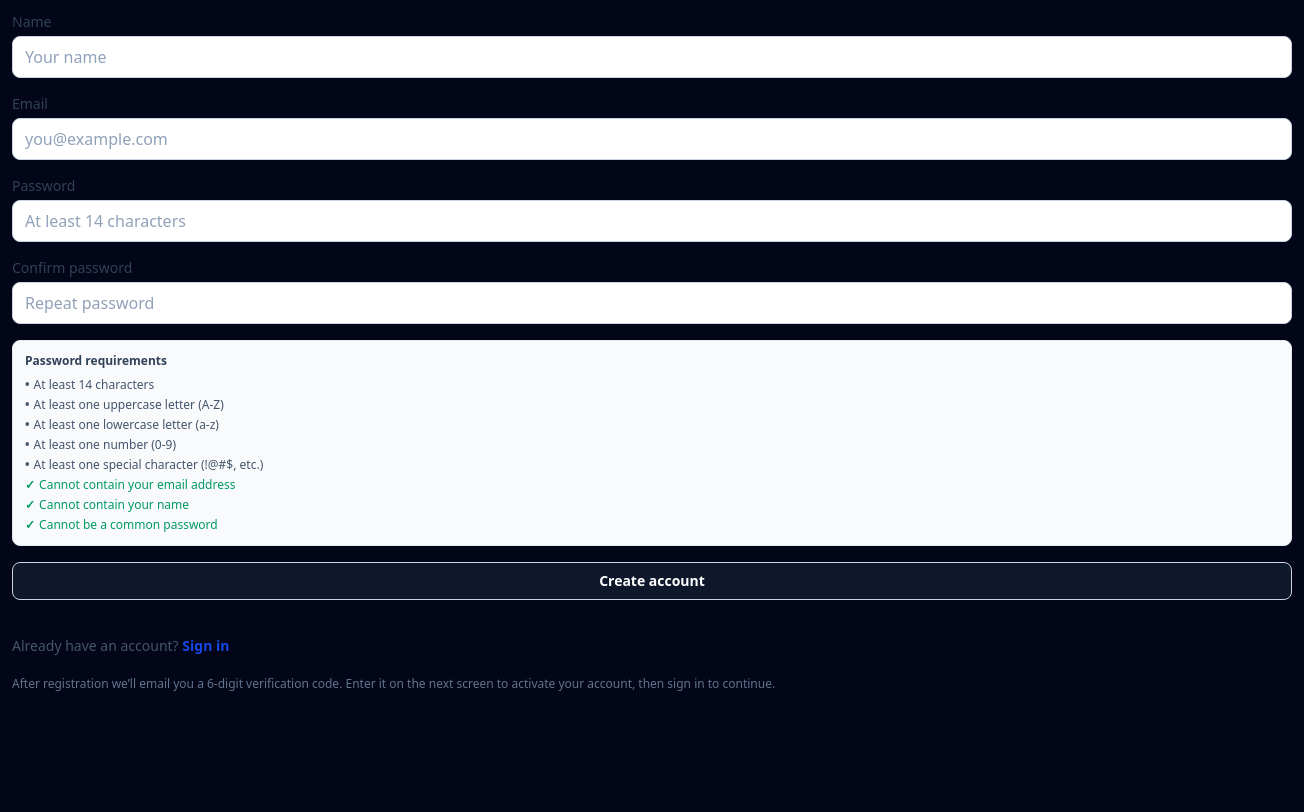
Scenario: RegisterPage › registers and navigates to verify page
Type "Matt" into the field with placeholder "Your name" at (652,57), box [12,36,1292,78]
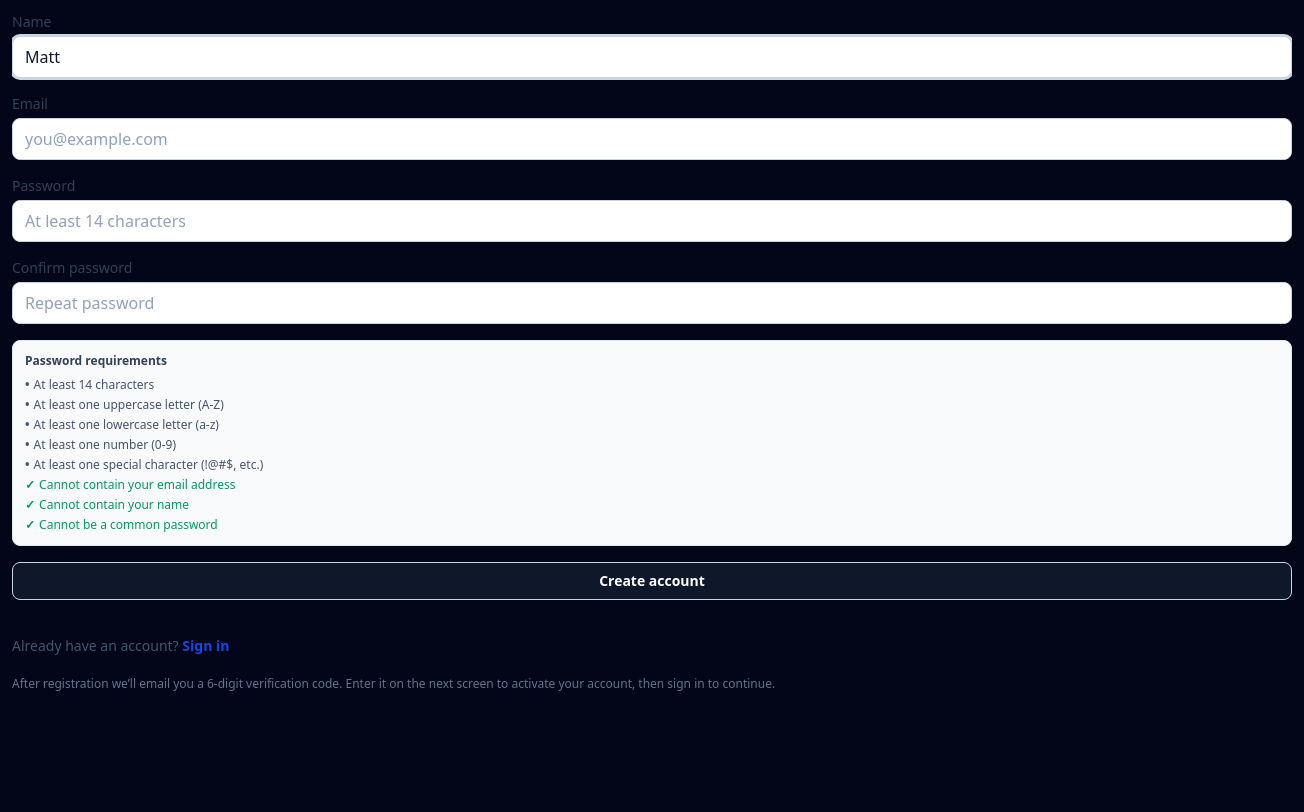
Type "matt@example.com" into the field with placeholder "you@example.com" at (652,139), box [12,118,1292,160]
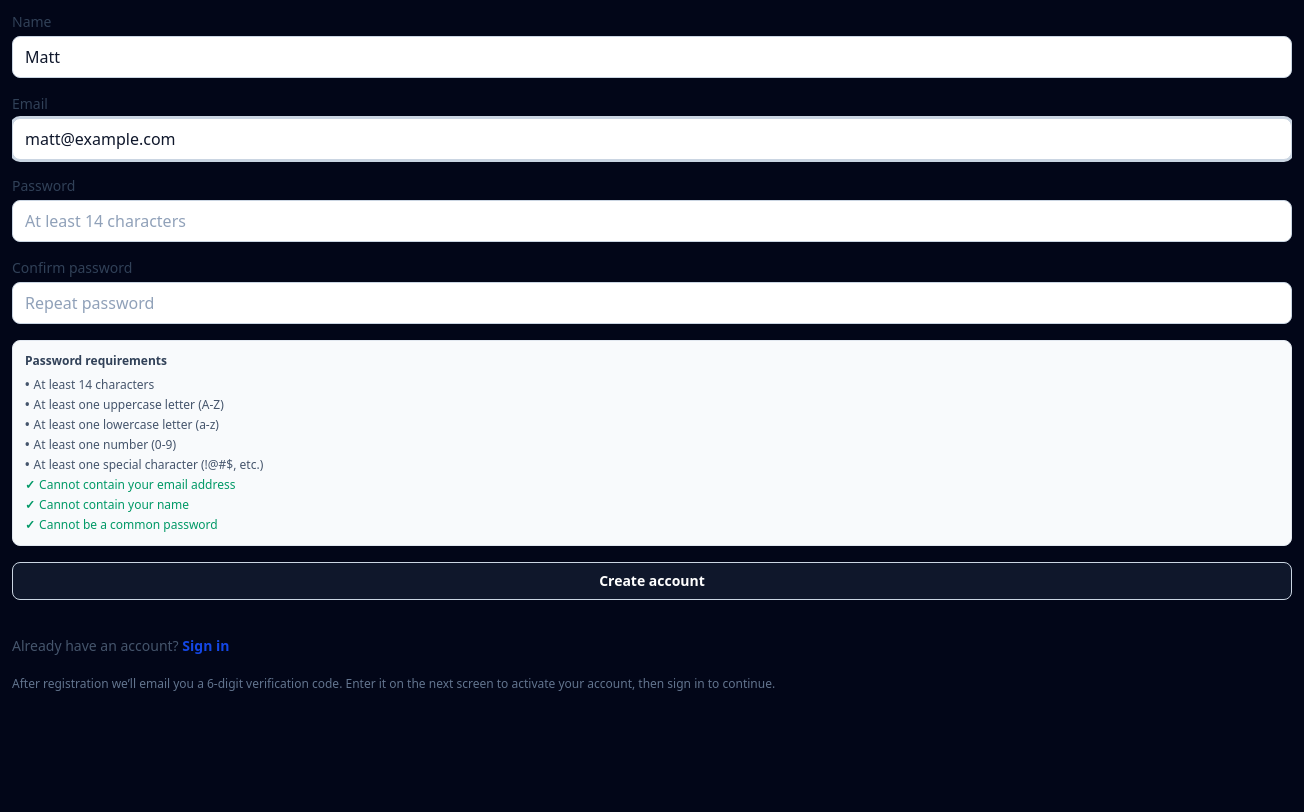
Type "Password_12345" into the password field with placeholder "At least 14 characters" at (652,221), box [12,200,1292,242]
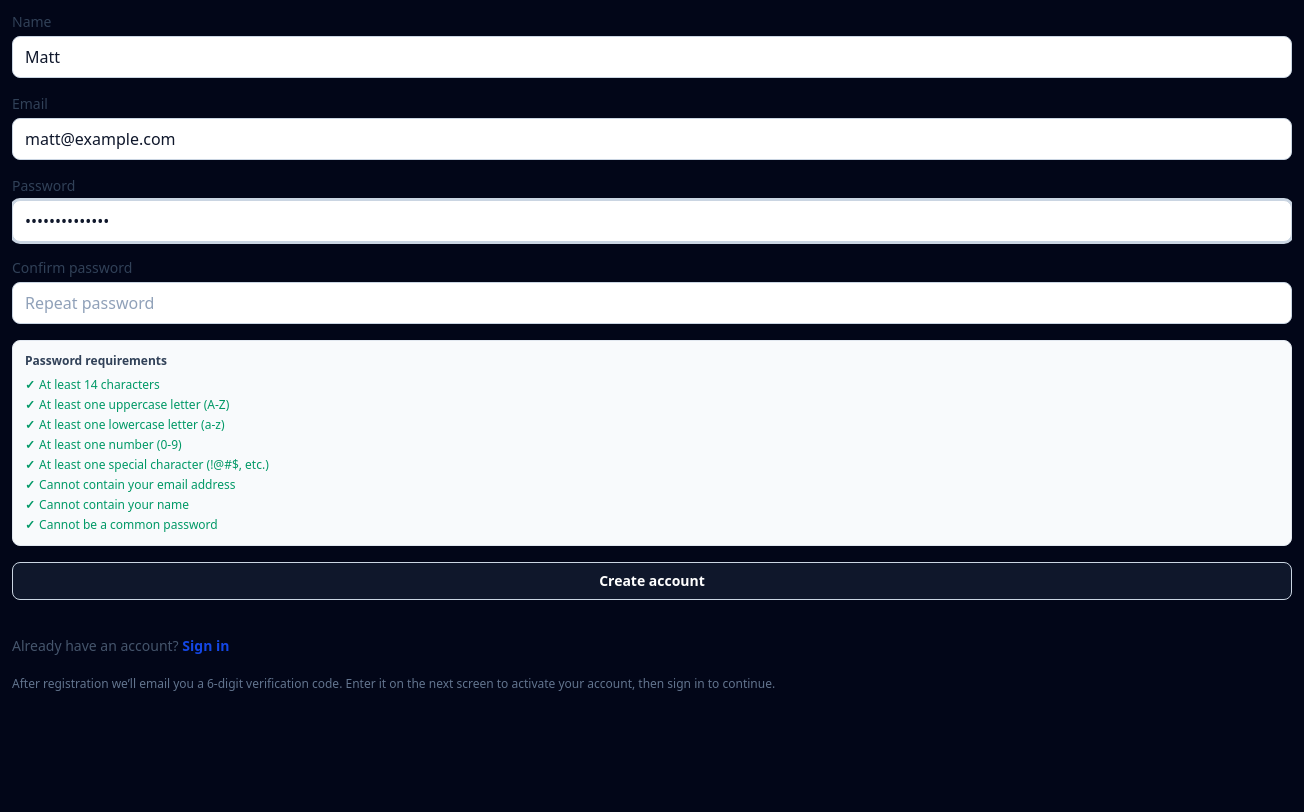
Type "Password_12345" into the password field with placeholder "Repeat password" at (652,303), box [12,282,1292,324]
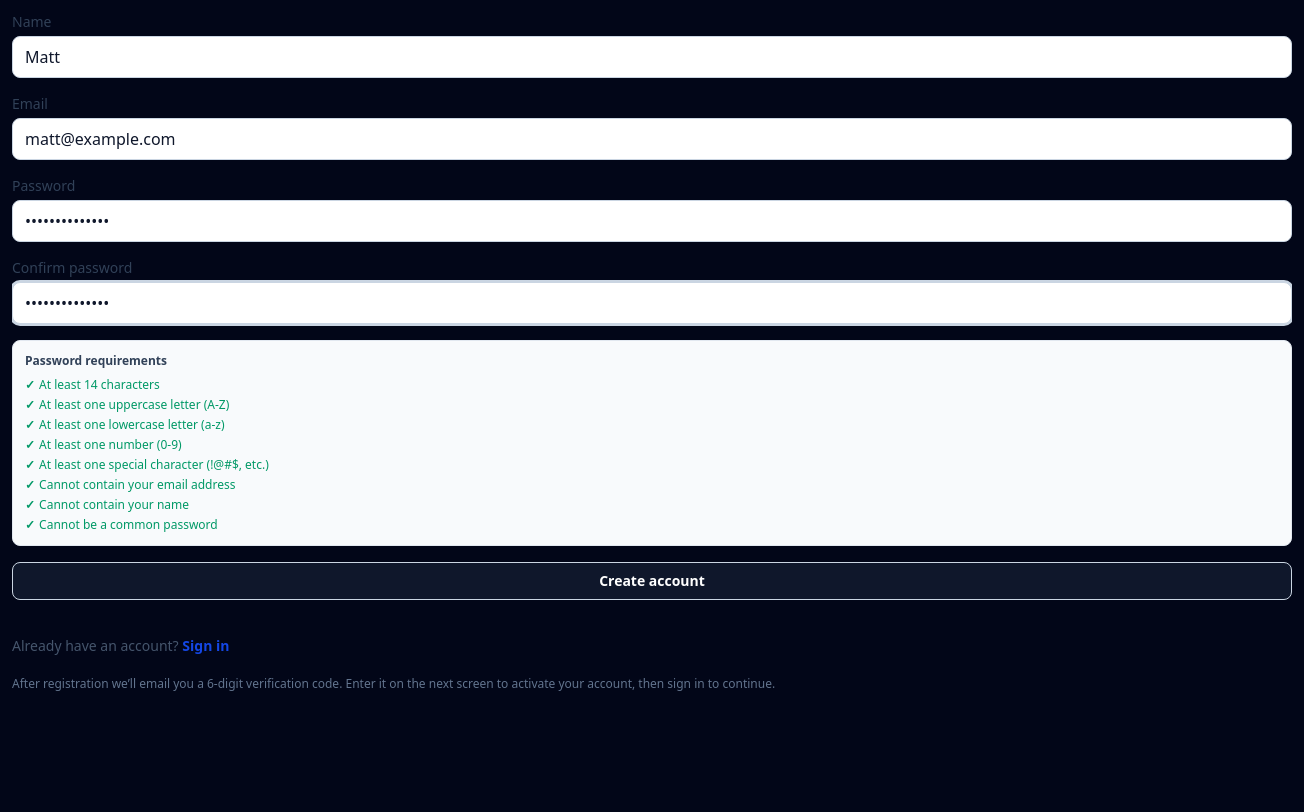
Click the button "Create account" at (652,581), box [12,562,1292,600]
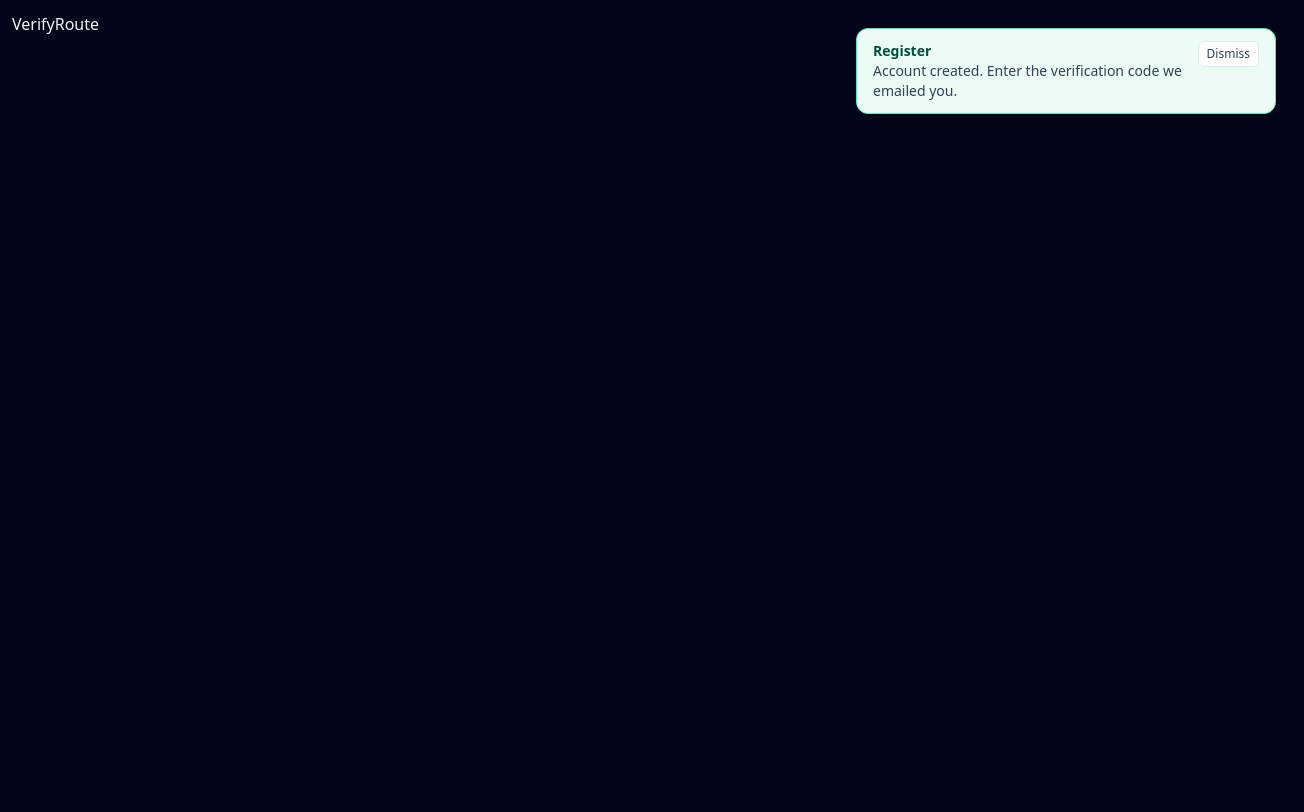
Now the text "VerifyRoute" is shown, box [12,13,99,35]
Now the text "Account created. Enter the verification code we emailed you." is shown, box [873,61,1186,101]
